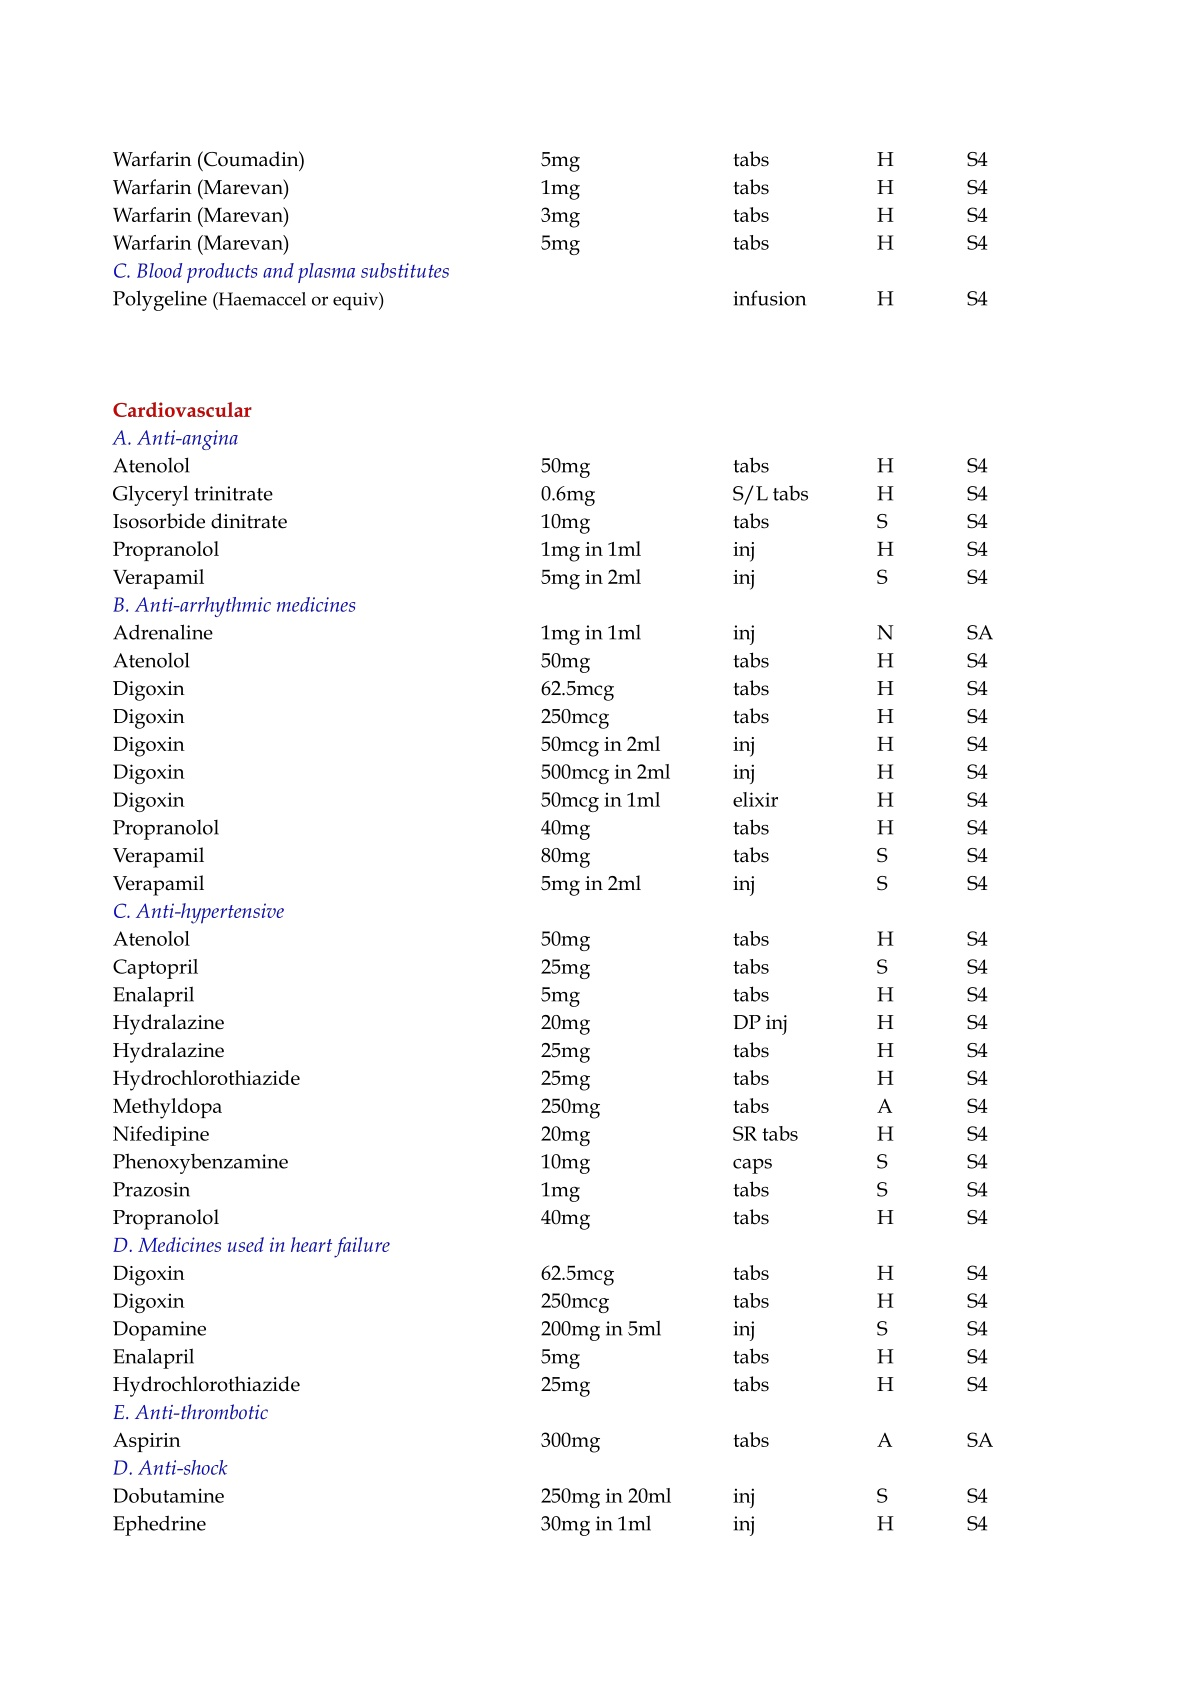nolines: (111, 145, 993, 1539)
